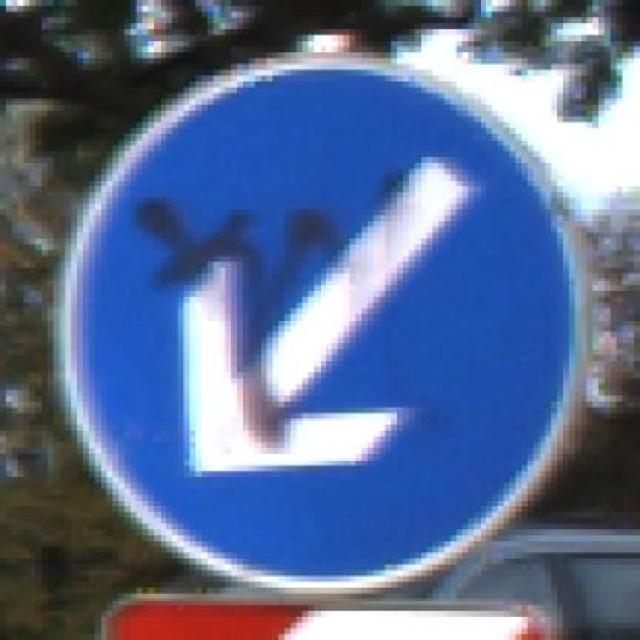Keep-Left: (30, 52, 592, 594)
